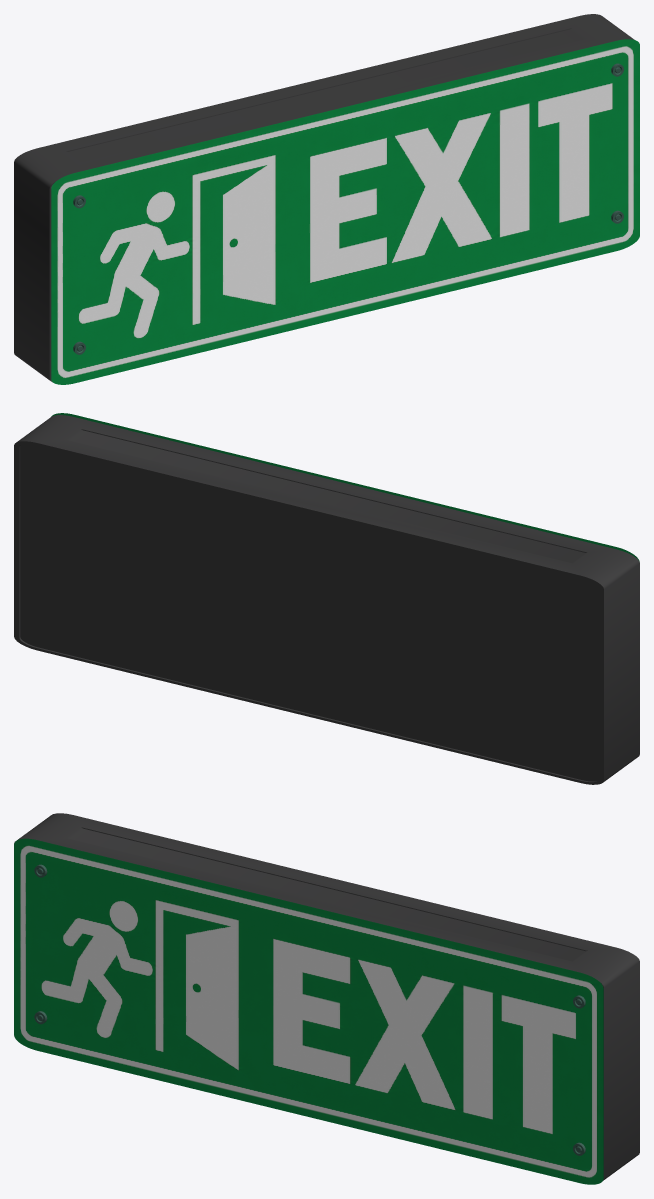
The model's file is Elix Sige.fbx.
The picture shows the model from 3 angles, top to bottom: view 1: azimuth 30°, elevation 25°; view 2: azimuth 150°, elevation 25°; view 3: azimuth 330°, elevation 25°; orthographic projection.
Parts seen in each view (by area): view 1: Exit_Sign_Logo, Exit_Sign, screw; view 2: Exit_Sign, Exit_Sign_Logo; view 3: Exit_Sign_Logo, Exit_Sign, screw.
Boxes of the visible parts, x1,y1,x2,y2 form: Exit_Sign_Logo: (51,39,639,384); Exit_Sign: (14,14,634,382); screw: (73,63,623,354); Exit_Sign: (14,415,639,784); Exit_Sign_Logo: (51,413,639,561); Exit_Sign_Logo: (14,838,603,1184); Exit_Sign: (14,813,639,1180); screw: (34,864,585,1155).
Size of the model in its own units: 496 by 169 by 55.63.
Materials: 3 (1 with a texture image).
